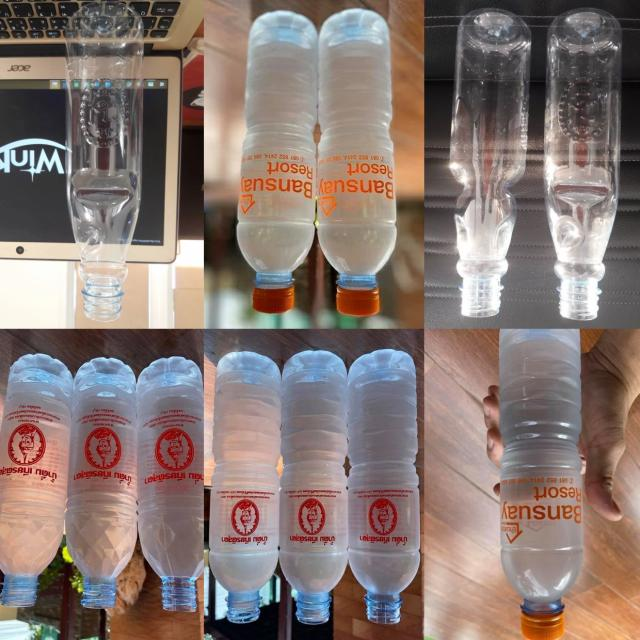plastik: (500, 330, 584, 640), (450, 8, 531, 317), (66, 2, 144, 321), (318, 9, 397, 316), (237, 11, 317, 313), (544, 9, 621, 319), (348, 350, 420, 624), (209, 352, 280, 623), (279, 351, 348, 624), (0, 354, 73, 606), (66, 358, 137, 609), (137, 357, 204, 611)
